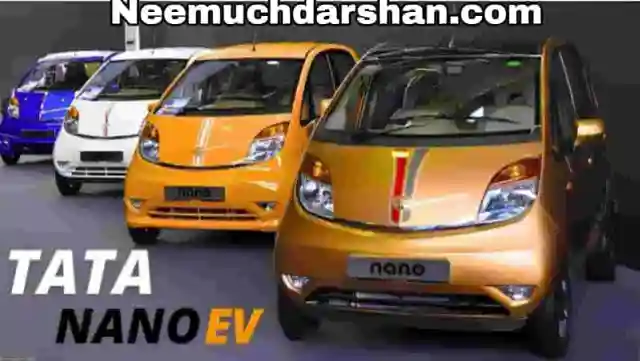Nano: (274, 40, 620, 353), (124, 48, 362, 255), (51, 45, 217, 205), (3, 50, 114, 177)
